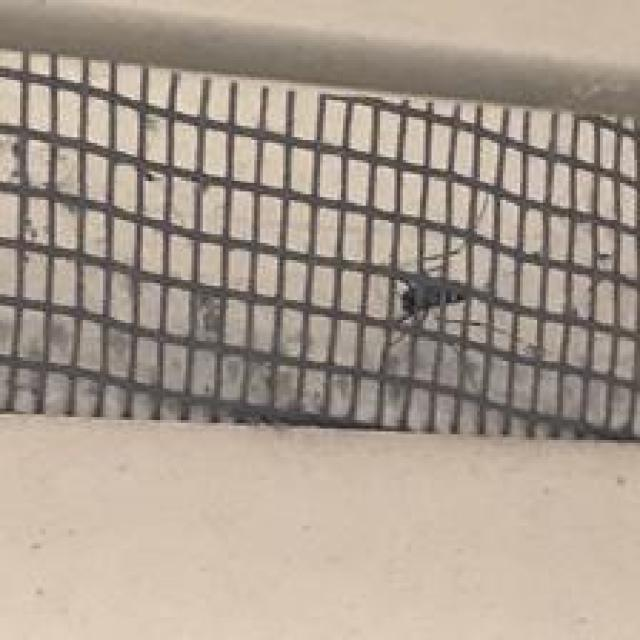Aedes albopictus: (393, 245, 467, 328)
